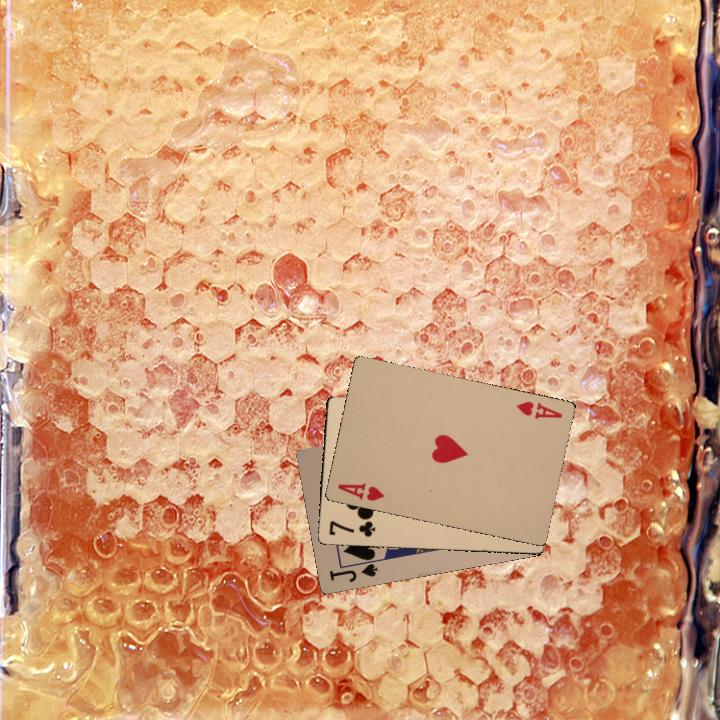7c: (325, 517, 378, 539)
Ah: (334, 479, 387, 503), (512, 397, 565, 421)
Js: (325, 556, 379, 585)
